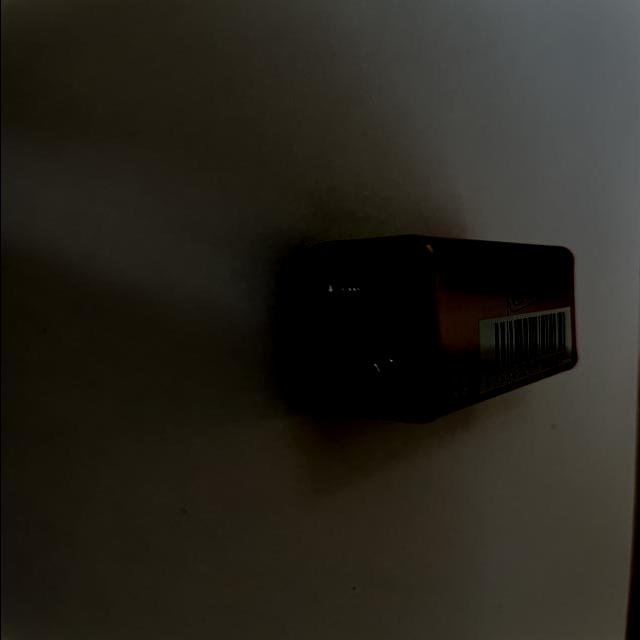9V: (301, 237, 575, 425)
